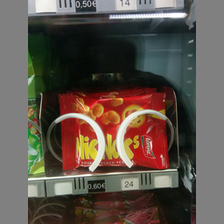nuts: (57, 92, 169, 170)
